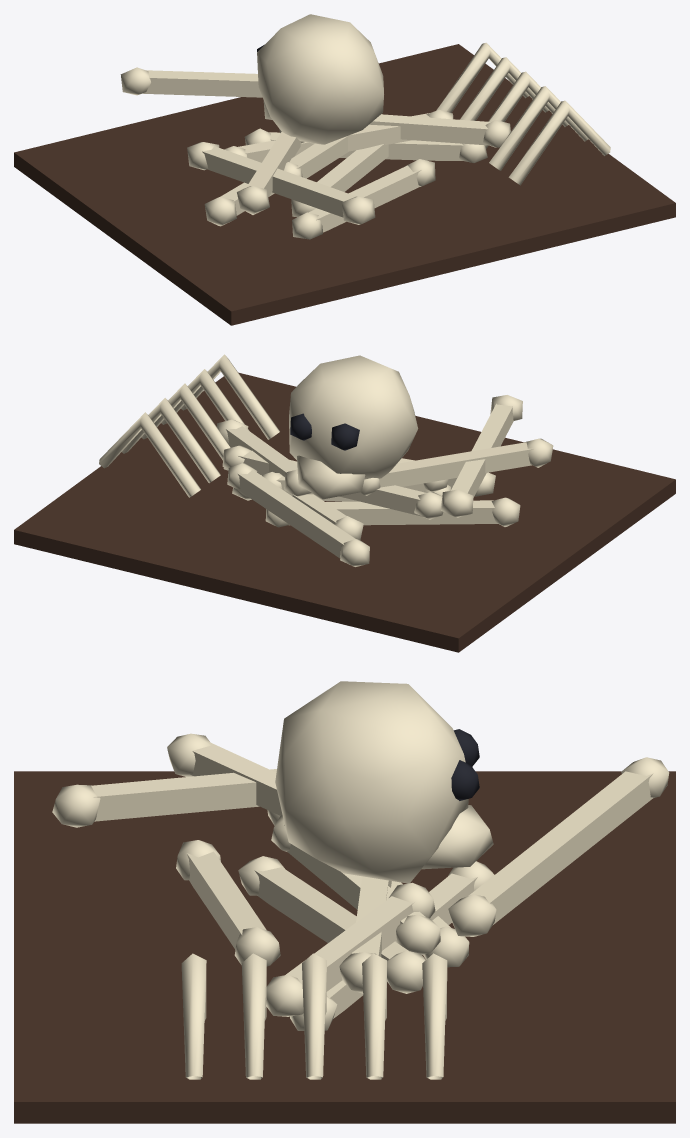
The model's file is bone_pile.glb.
The picture shows the model from 3 angles, top to bottom: view 1: azimuth 30°, elevation 25°; view 2: azimuth 150°, elevation 25°; view 3: azimuth 270°, elevation 25°; orthographic projection. The views are drawn at different scales.
Parts seen in each view (by area): view 1: earth; view 2: earth; view 3: earth.
Boxes of the visible parts, x1=… form: earth: x1=14, y1=14, x2=675, y2=325; earth: x1=14, y1=354, x2=675, y2=652; earth: x1=14, y1=681, x2=675, y2=1123.
Size of the model in its own units: 1.3 by 0.4505 by 1.1.
